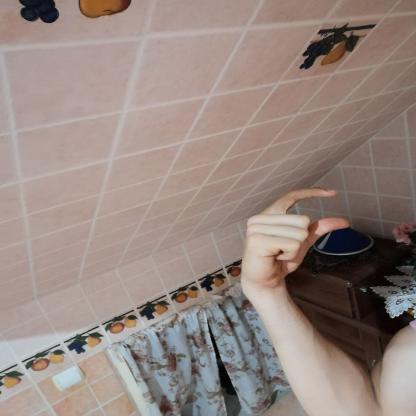DELL: (228, 180, 361, 297)
